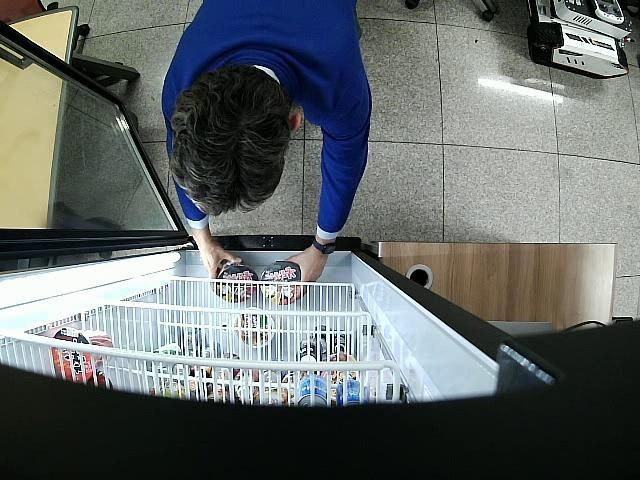07_buldak_L: (216, 260, 258, 302), (260, 262, 302, 304)
